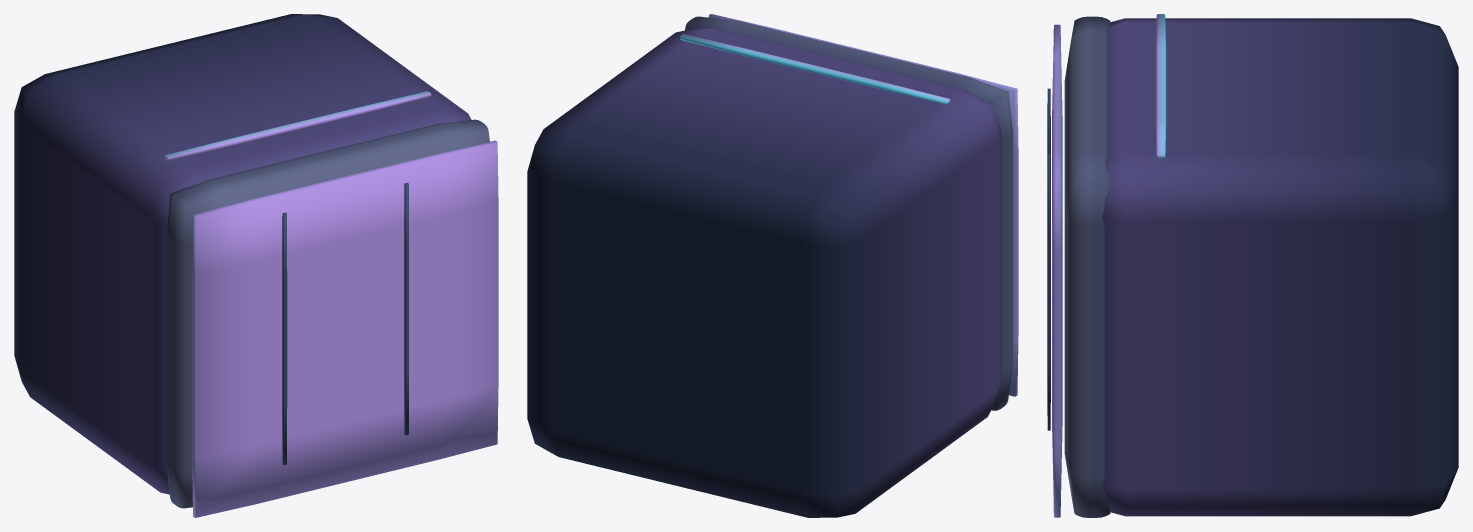
Rendered from SpalakhSoftPlatform_v099.glb.
3 renders of one model, left to right at view 1: azimuth 30°, elevation 25°; view 2: azimuth 150°, elevation 25°; view 3: azimuth 270°, elevation 25°, orthographic. The views are drawn at different scales.
Parts seen in each view (by area): view 1: game_asset; view 2: game_asset; view 3: game_asset.
Boxes of the visible parts, x1,y1,x2,y2 form: game_asset: (14,14,498,517); game_asset: (527,14,1018,517); game_asset: (1047,14,1458,517).
Bounding box in the file's own units: 0.97 × 0.9335 × 0.9605.
